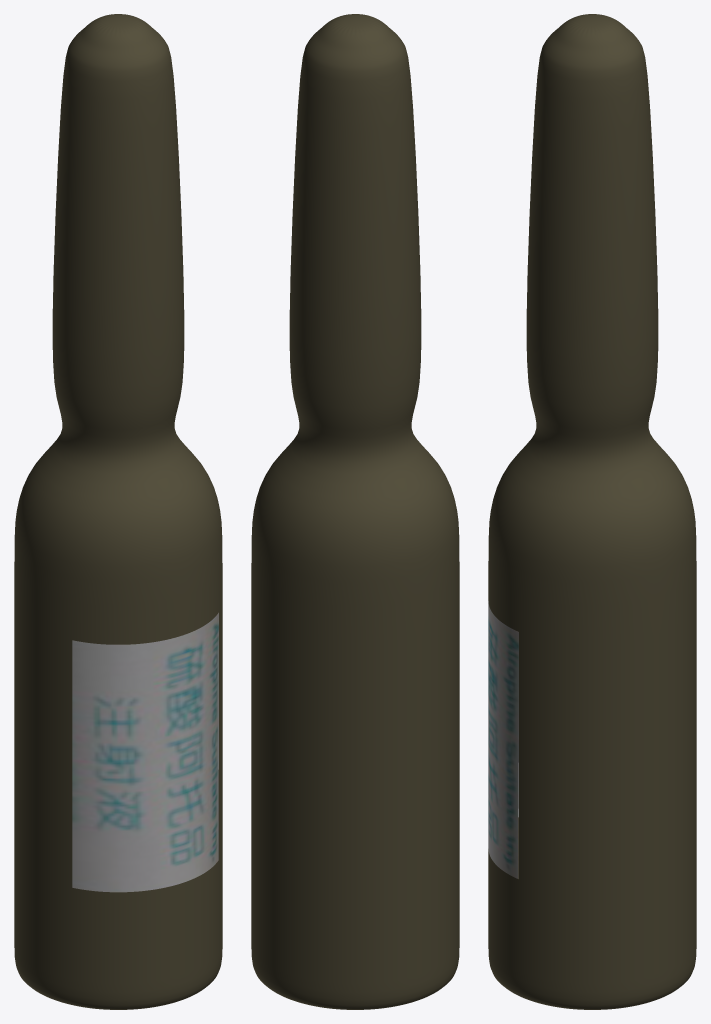
Rendered from 20140311GOPHDRGPT00274.fbx.
3 renders of one model, left to right at view 1: azimuth 30°, elevation 25°; view 2: azimuth 150°, elevation 25°; view 3: azimuth 270°, elevation 25°, orthographic.
Parts seen in each view (by area): view 1: Cylinder; view 2: Cylinder; view 3: Cylinder.
Part boxes in pixels (x1,y1,x2,y2): Cylinder: [14, 14, 222, 1009]; Cylinder: [251, 14, 459, 1009]; Cylinder: [488, 14, 696, 1009].
Size of the model in its own units: 109 by 550 by 109.
2 materials, 1 textured.
